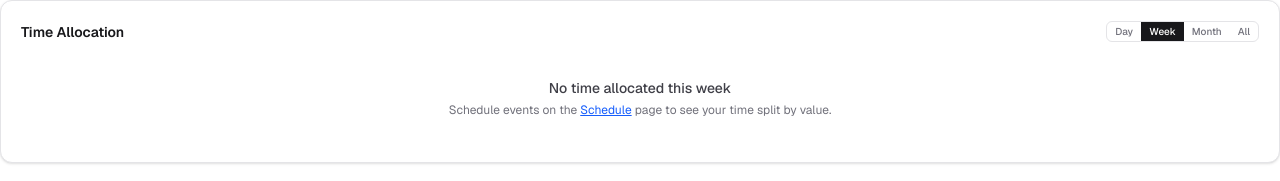
TimeAllocation component › empty state › displays period-specific empty label for "all"
Expected: the text "No time allocated this week" is shown, [549,78,731,98]
Click the button "all" at (1244, 32), box [1230,22,1258,41]
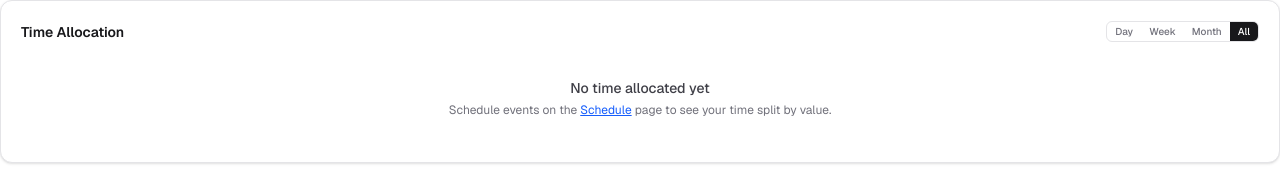
Expected: the text "No time allocated yet" is shown, [570,78,710,98]
